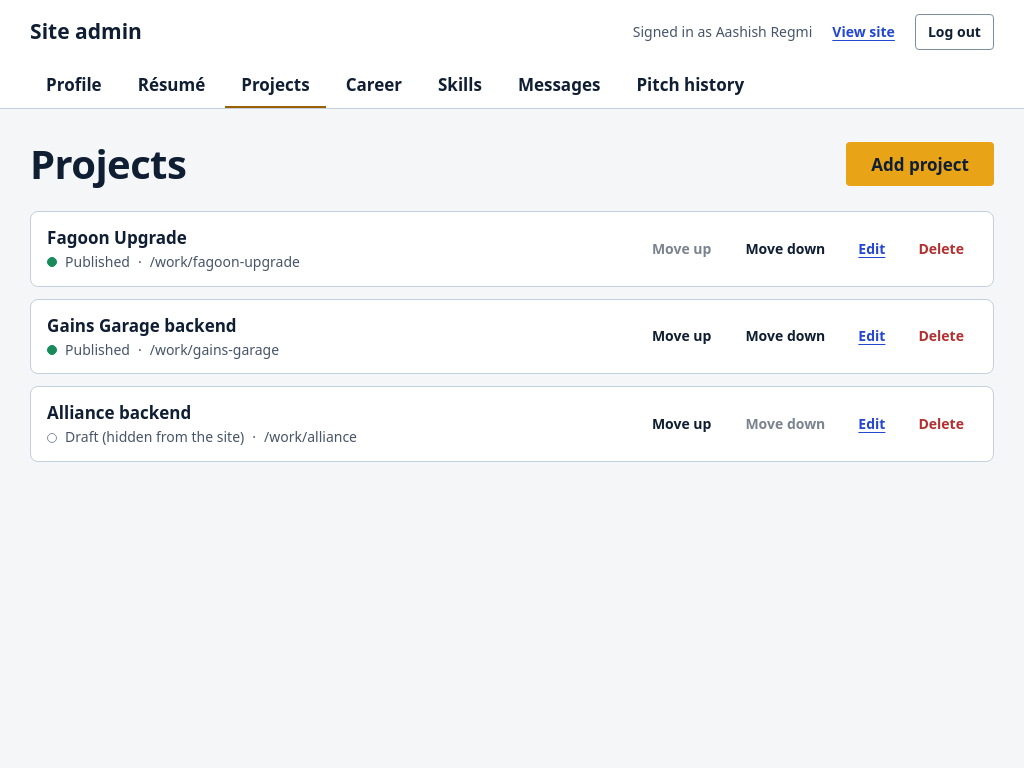
Scenario: admin session › logs out
This screenshot has width=1024, height=768.
Click the button "Log out" at point(954, 32), box [915,14,994,50]
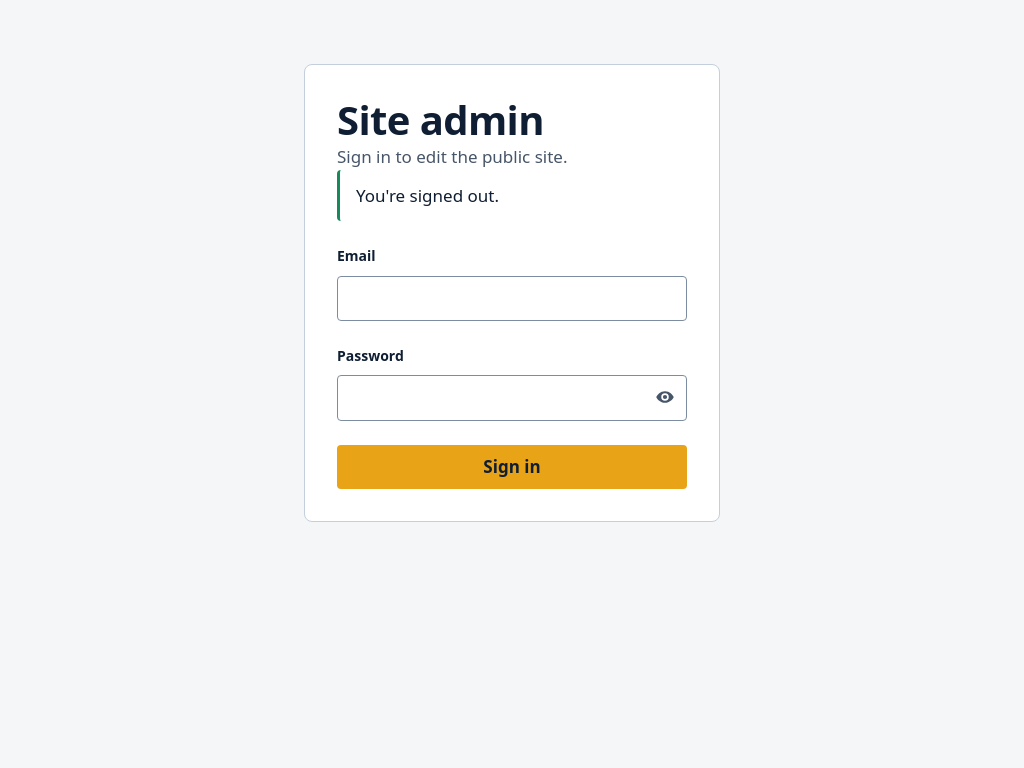
Result: the text "You're signed out." is shown at [337,170,687,221]
